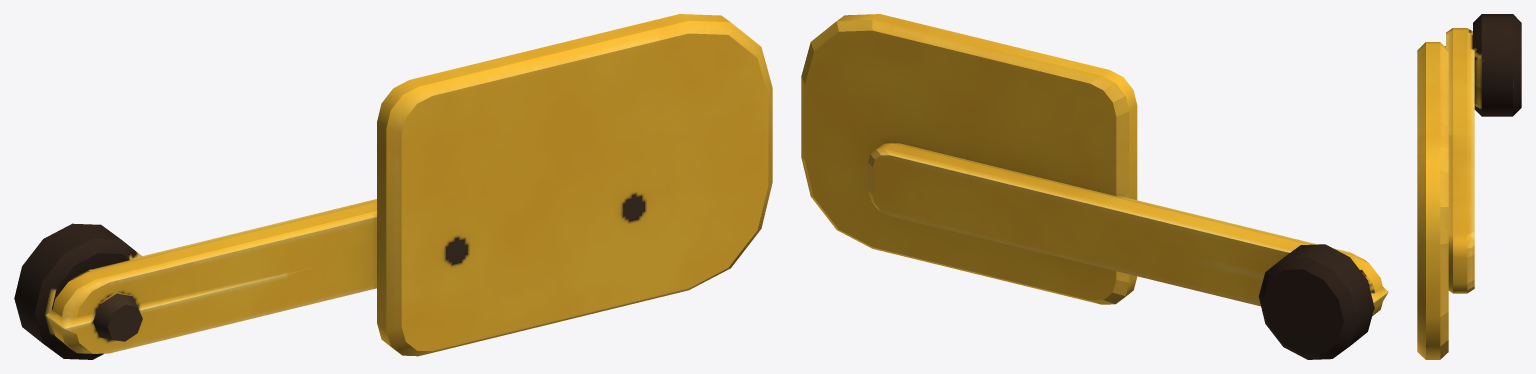
File: mailbox_flag.glb
3 views of the same model, side by side, from view 1: azimuth 30°, elevation 25°; view 2: azimuth 150°, elevation 25°; view 3: azimuth 270°, elevation 25° (orthographic). The views are drawn at different scales.
Visible parts, largest first — view 1: mailbox_flag; view 2: mailbox_flag; view 3: mailbox_flag.
Part boxes in pixels (x1,y1,x2,y2): mailbox_flag: [14, 14, 772, 359]; mailbox_flag: [801, 14, 1388, 359]; mailbox_flag: [1417, 14, 1521, 359].
Size of the model in its own units: 0.218 by 0.08 by 0.0365.
Materials: 1 (1 with a texture image).
